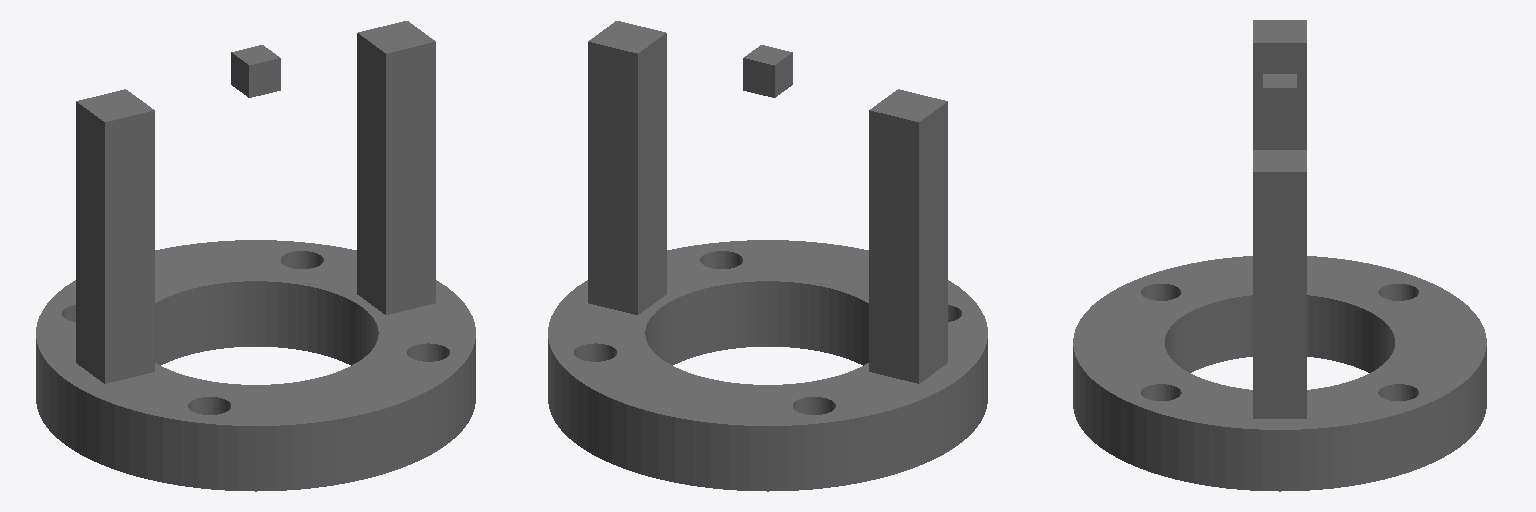
URDF robot description (onshape):
<robot name="onshape">
<link name="pointer_tool">
<visual>
<origin xyz="0 0 0" rpy="0 -0 0" />
<geometry>
<mesh filename="package://urdf_viewer/urdf/pointer_tool/pointer_tool_visual.stl"/>
</geometry>
<material name="pointer_tool_material">
<color rgba="0.5 0.5 0.5 1.0"/>
</material>
</visual>
<collision>
<origin xyz="0 0 0" rpy="0 -0 0" />
<geometry>
<mesh filename="package://urdf_viewer/urdf/pointer_tool/pointer_tool_collision.stl"/>
</geometry>
</collision>
<inertial>
<origin xyz="0 0 0" rpy="0 0 0"/>
<mass value="0" />
<inertia ixx="0" ixy="0"  ixz="0" iyy="0" iyz="0" izz="0" />
</inertial>
</link>

<link name="tool_tip">
<visual>
<origin xyz="0 0 0" rpy="0 -0 0" />
<geometry>
<mesh filename="package://urdf_viewer/urdf/pointer_tool/tool_tip_visual.stl"/>
</geometry>
<material name="tool_tip_material">
<color rgba="0.5 0.5 0.5 1.0"/>
</material>
</visual>
<collision>
<origin xyz="0 0 0" rpy="0 -0 0" />
<geometry>
<mesh filename="package://urdf_viewer/urdf/pointer_tool/tool_tip_collision.stl"/>
</geometry>
</collision>
<inertial>
<origin xyz="0 0 0" rpy="0 0 0"/>
<mass value="0" />
<inertia ixx="0" ixy="0"  ixz="0" iyy="0" iyz="0" izz="0" />
</inertial>
</link>

<joint name="tool_tip" type="fixed">
<origin xyz="-1.7347234759768070944e-18 0 0.050000000000000002776" rpy="0 -0 0" />
<parent link="pointer_tool" />
<child link="tool_tip" />
<axis xyz="0 0 1"/>
<limit effort="1" velocity="20" />
<joint_properties friction="0.0"/>
</joint>


</robot>

--- What the picture shows (computed from the rendered views, not written in the file) ---
3 views of the same robot in one strip: view 1: azimuth 30°, elevation 25°; view 2: azimuth 150°, elevation 25°; view 3: azimuth 270°, elevation 25° (orthographic).
Model onshape with 2 links and 1 joints (1 fixed), rooted at pointer_tool, posed every joint at zero.
Visible links, largest first — view 1: pointer_tool, tool_tip; view 2: pointer_tool, tool_tip; view 3: pointer_tool, tool_tip.
Link boxes in pixels (left/top/right/bottom): pointer_tool: left=36, top=21, right=475, bottom=491; tool_tip: left=231, top=45, right=280, bottom=97; pointer_tool: left=548, top=21, right=987, bottom=491; tool_tip: left=743, top=45, right=792, bottom=97; pointer_tool: left=1073, top=20, right=1486, bottom=491; tool_tip: left=1263, top=74, right=1296, bottom=118.
Size in the robot's own frame: 0.061 by 0.061 by 0.0525 metres.
Meshes: 2 distinct files referenced, 2 mesh visuals loaded (2 binary STL).